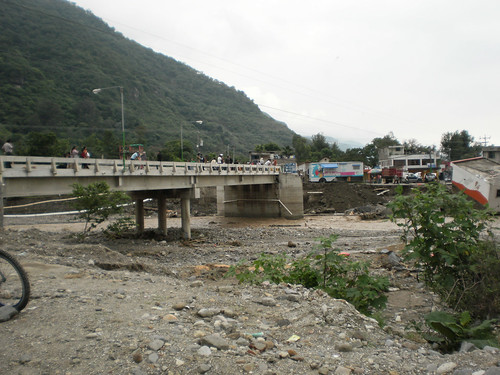bridge: (1, 148, 310, 234)
building: (445, 158, 497, 218), (382, 143, 442, 190), (302, 155, 376, 188)
dirt: (1, 241, 447, 375)
mountain: (1, 1, 305, 153)
river: (57, 207, 500, 252)
sky: (136, 2, 500, 132)
tree: (397, 194, 500, 327)
